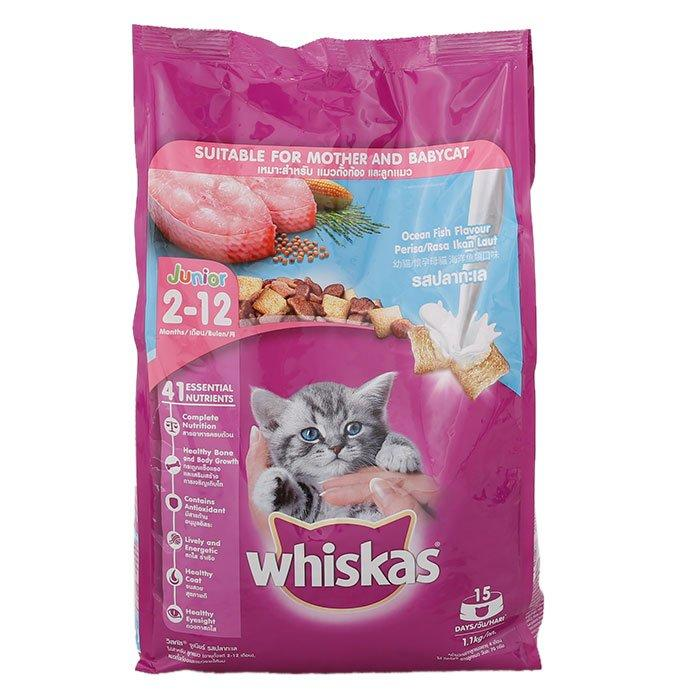plastic: (119, 11, 552, 687)
